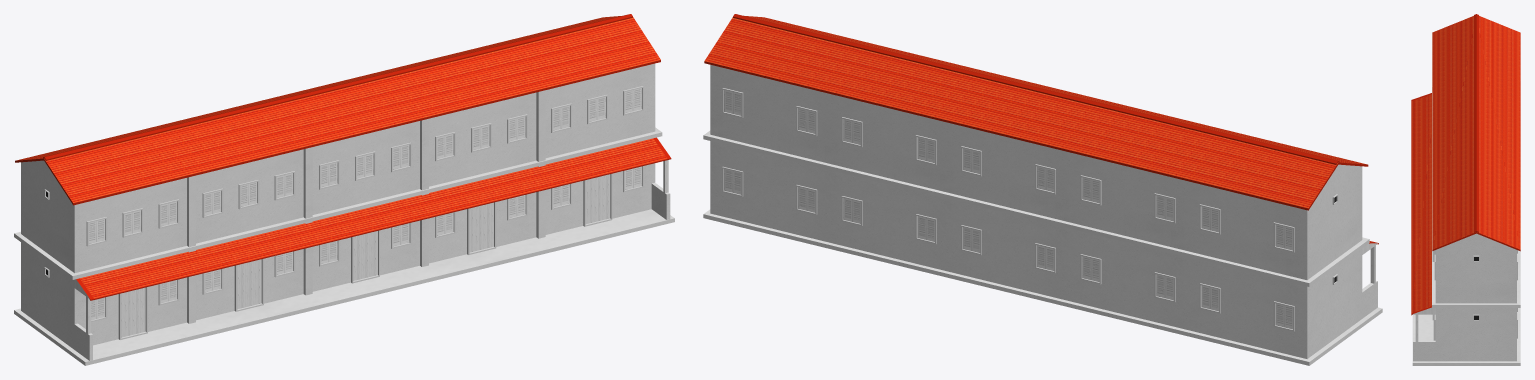
Rendered from Teres_2.fbx.
3 renders of one model, left to right at view 1: azimuth 30°, elevation 25°; view 2: azimuth 150°, elevation 25°; view 3: azimuth 270°, elevation 25°, orthographic. The views are drawn at different scales.
Parts seen in each view (by area): view 1: Cube; view 2: Cube; view 3: Cube.
Boxes of the visible parts, box(x1,y1,x2,y2) form: Cube: box(14, 14, 674, 365); Cube: box(703, 14, 1382, 365); Cube: box(1411, 14, 1520, 365).
Size of the model in its own units: 25.38 by 7.31 by 5.37.
